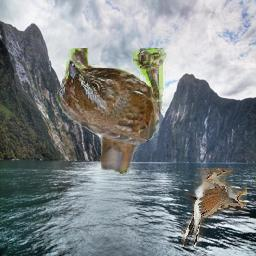Cuckoo: (181, 169, 247, 248)
Sparrow: (56, 49, 169, 176)
